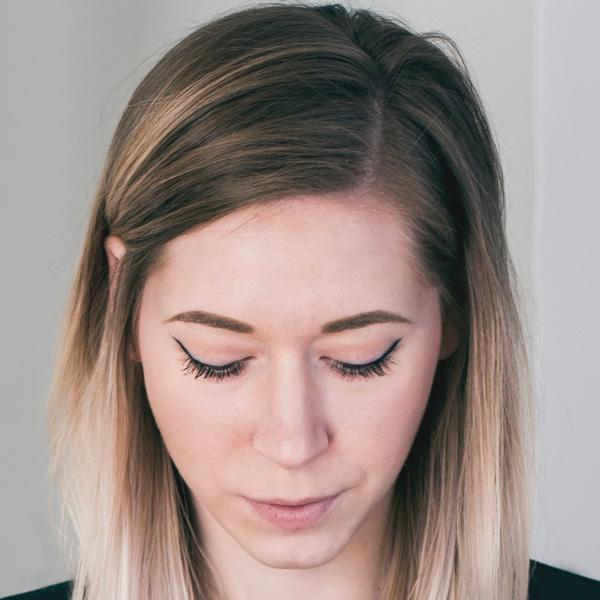Eyes: (168, 323, 260, 393), (314, 331, 411, 388)
